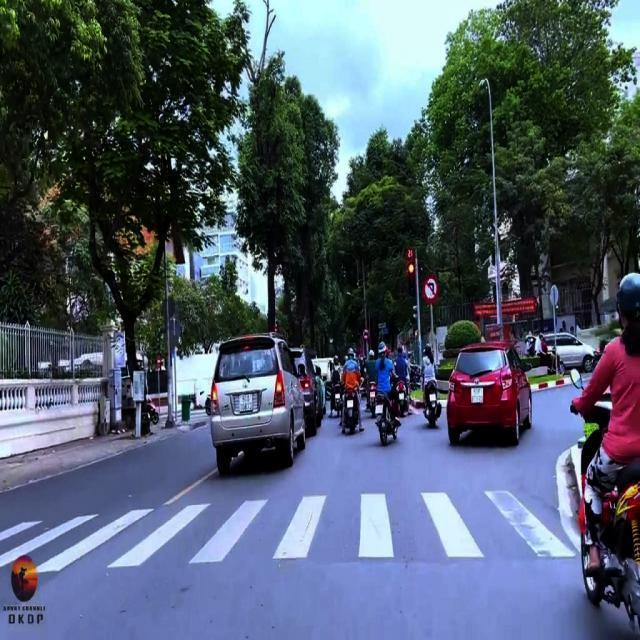106-cam-oto-tai: (364, 329, 369, 340)
123a-cam-re-trai: (422, 276, 440, 304)
